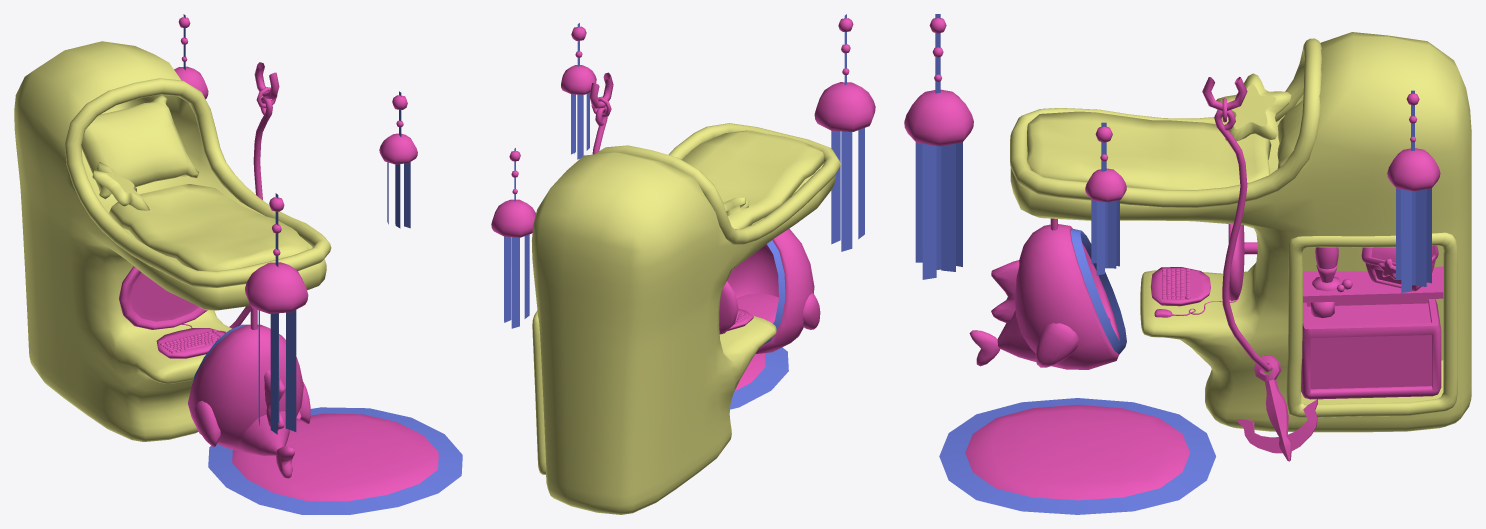
File: F_sypialnia lvl3.fbx
3 renders of one model, left to right at view 1: azimuth 30°, elevation 25°; view 2: azimuth 150°, elevation 25°; view 3: azimuth 270°, elevation 25°, orthographic. The views are drawn at different scales.
Parts seen in each view (by area): view 1: BézierCurve; view 2: BézierCurve; view 3: BézierCurve.
Part boxes in pixels (x1=…): BézierCurve: x1=14, y1=14, x2=462, y2=514; BézierCurve: x1=491, y1=14, x2=875, y2=514; BézierCurve: x1=904, y1=14, x2=1471, y2=514.
Size of the model in its own units: 192 by 231 by 309.
